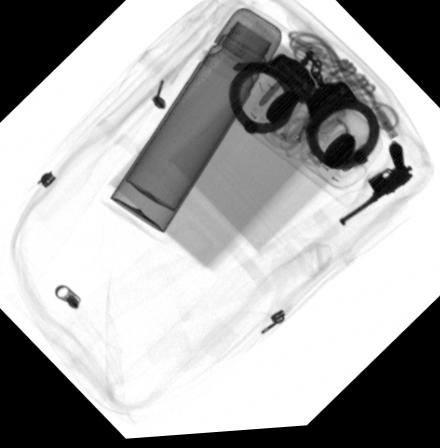Gun: (335, 148, 414, 232)
HandCuffs: (223, 53, 378, 179)
